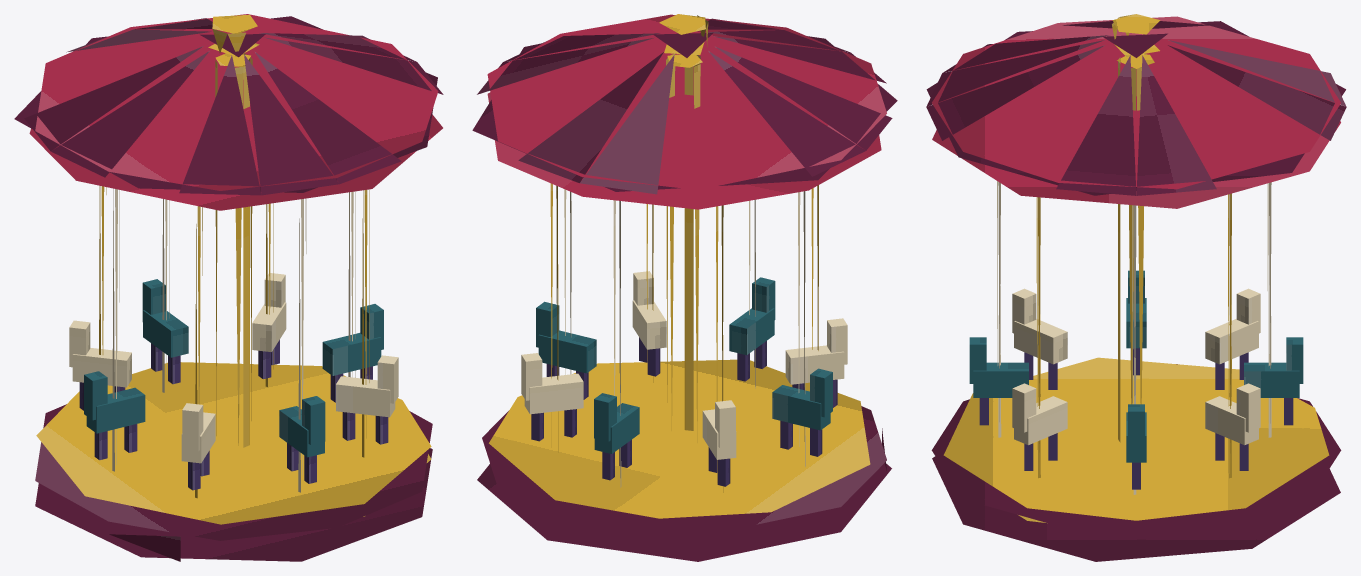
File: carousel_centerpiece.glb
3 views of the same model, side by side, from view 1: azimuth 30°, elevation 25°; view 2: azimuth 150°, elevation 25°; view 3: azimuth 270°, elevation 25° (orthographic).
Parts seen in each view (by area): view 1: CarouselDeck, Canopy, CanopyBand, CarouselBase, CenterMast, HorseBody_0, HorseBody_7, HorseBody_4, HorseBody_3, HorseBody_2, HorseBody_1, HorseBody_6 (+18 smaller); view 2: CarouselDeck, CanopyBand, Canopy, CarouselBase, CenterMast, HorseBody_0, HorseBody_1, HorseBody_4, HorseBody_5, HorseBody_6, HorseBody_7, HorseBody_2 (+16 smaller); view 3: CarouselDeck, CanopyBand, Canopy, CarouselBase, CenterMast, HorseBody_3, HorseBody_5, HorseBody_2, HorseBody_6, HorseBody_7, HorseBody_1, RidePole_7 (+13 smaller).
Part boxes in pixels (bbox=[...]): CarouselDeck: bbox=[36, 362, 431, 524]; Canopy: bbox=[14, 16, 443, 195]; CanopyBand: bbox=[29, 14, 442, 210]; CarouselBase: bbox=[35, 404, 432, 561]; CenterMast: bbox=[215, 53, 252, 447]; HorseBody_0: bbox=[322, 333, 381, 375]; HorseBody_7: bbox=[336, 376, 395, 417]; HorseBody_4: bbox=[86, 387, 145, 433]; HorseBody_3: bbox=[72, 348, 131, 387]; HorseBody_2: bbox=[143, 310, 188, 357]; HorseBody_1: bbox=[252, 302, 286, 351]; HorseBody_6: bbox=[279, 406, 324, 457]; CarouselDeck: bbox=[489, 359, 870, 518]; CanopyBand: bbox=[487, 14, 886, 209]; Canopy: bbox=[472, 18, 897, 194]; CarouselBase: bbox=[477, 406, 891, 561]; CenterMast: bbox=[666, 53, 702, 442]; HorseBody_0: bbox=[538, 330, 596, 373]; HorseBody_1: bbox=[524, 373, 583, 414]; HorseBody_4: bbox=[772, 385, 830, 430]; HorseBody_5: bbox=[785, 345, 844, 384]; HorseBody_6: bbox=[729, 308, 774, 355]; HorseBody_7: bbox=[632, 300, 666, 349]; HorseBody_2: bbox=[594, 403, 639, 453]; CarouselDeck: bbox=[943, 357, 1329, 523]; CanopyBand: bbox=[932, 16, 1340, 208]; Canopy: bbox=[926, 21, 1346, 195]; CarouselBase: bbox=[931, 364, 1341, 561]; CenterMast: bbox=[1117, 53, 1154, 442]; HorseBody_3: bbox=[1205, 319, 1258, 364]; HorseBody_5: bbox=[1014, 319, 1067, 364]; HorseBody_2: bbox=[1244, 362, 1299, 397]; HorseBody_6: bbox=[973, 362, 1028, 397]; HorseBody_7: bbox=[1014, 396, 1067, 445]; HorseBody_1: bbox=[1205, 396, 1258, 445]; RidePole_7: bbox=[1036, 197, 1040, 478].
Size of the model in its own units: 5.44 by 6.44 by 5.44.
1 material, 1 textured.
